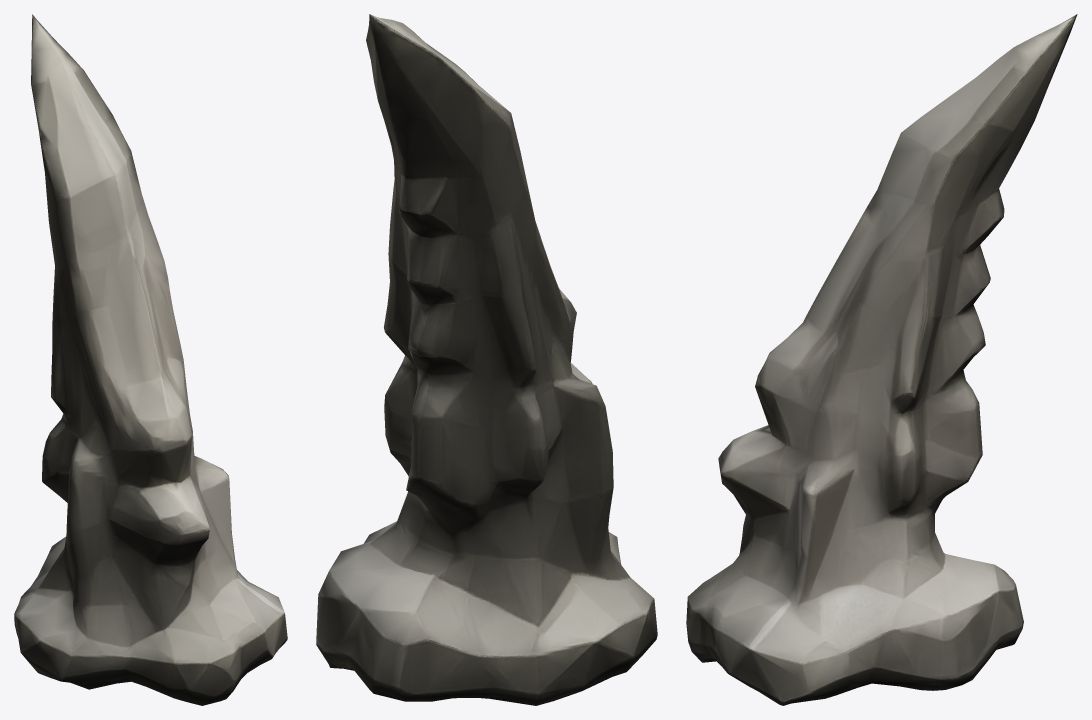
The model's file is back_spike.glb.
The picture shows the model from 3 angles, left to right: view 1: azimuth 30°, elevation 25°; view 2: azimuth 150°, elevation 25°; view 3: azimuth 270°, elevation 25°; orthographic projection. The views are drawn at different scales.
Visible parts, largest first — view 1: world; view 2: world; view 3: world.
Part boxes in pixels (<box>): world: <box>14,14,287,705</box>; world: <box>316,14,657,705</box>; world: <box>686,14,1077,705</box>.
Size of the model in its own units: 0.4242 by 0.9928 by 0.5515.
Materials: 1 (1 with a texture image).
